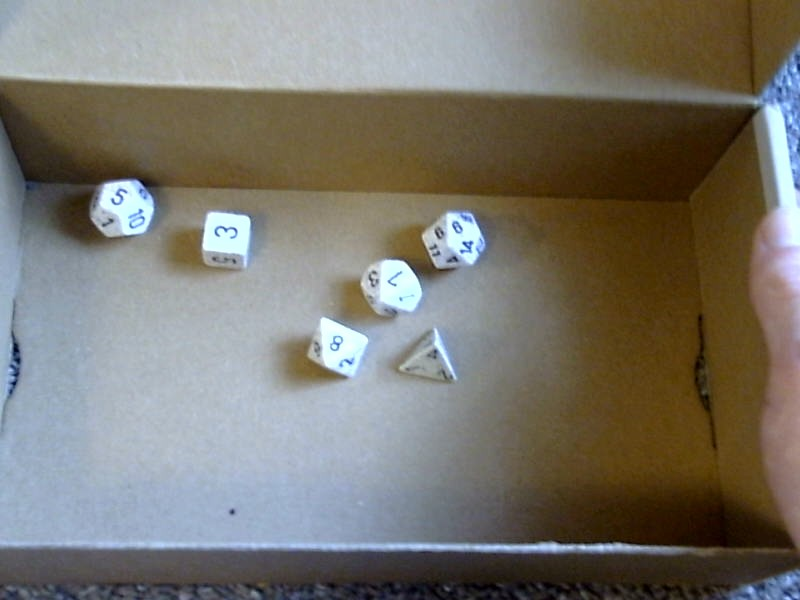d10 7: (357, 253, 423, 320)
d12 5: (80, 169, 159, 244)
d20 6: (422, 203, 495, 272)
d4 4: (396, 326, 460, 390)
d6 3: (194, 206, 258, 276)
d8 8: (298, 315, 371, 381)
